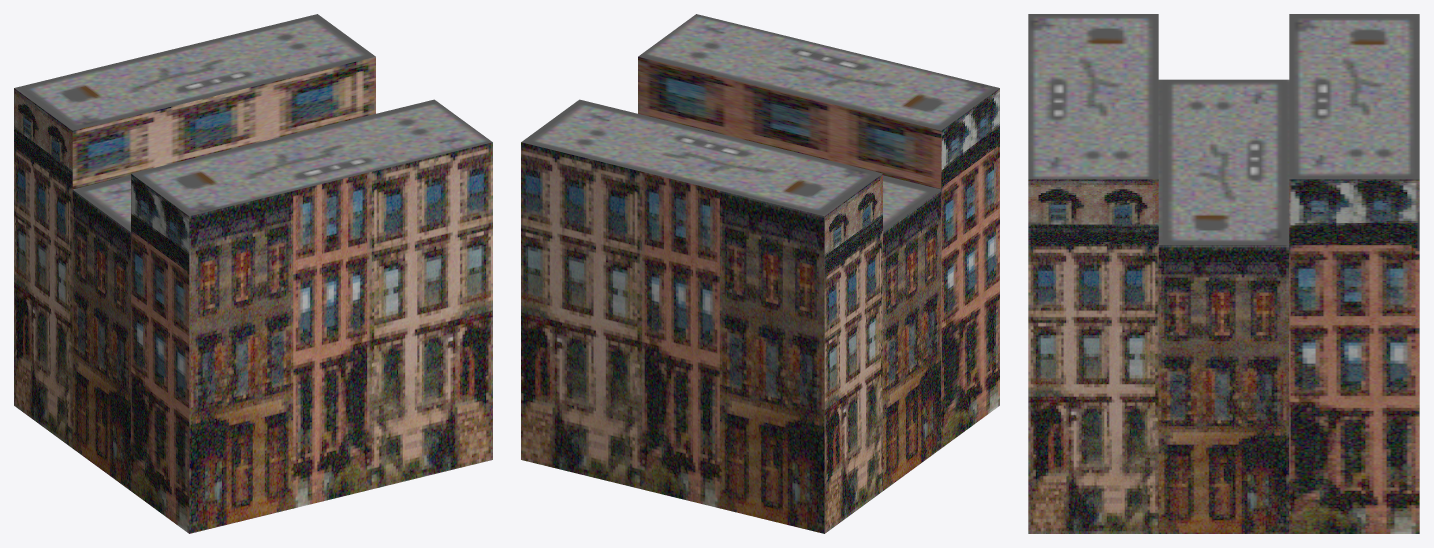
Rendered from building1.glb.
3 views of the same model, side by side, from view 1: azimuth 30°, elevation 25°; view 2: azimuth 150°, elevation 25°; view 3: azimuth 270°, elevation 25° (orthographic). The views are drawn at different scales.
Parts seen in each view (by area): view 1: Wall; view 2: Wall; view 3: Wall.
Boxes of the visible parts, <box> form: Wall: <box>14,14,492,533</box>; Wall: <box>521,14,999,533</box>; Wall: <box>1028,14,1419,533</box>.
Size of the model in its own units: 0.9965 by 0.9965 by 0.9965.
1 material, 1 textured.
